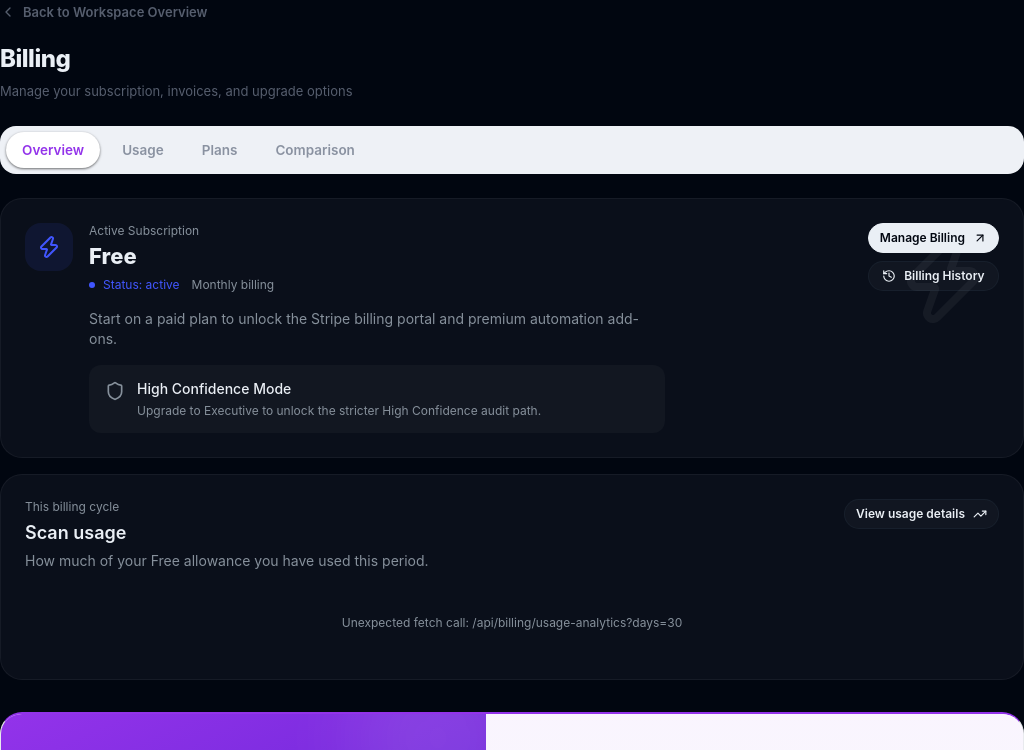
Test case: BillingPage › the Executive card (SIGV2-1211) › still offers Contact us to a visitor with no subscription at all
This screenshot has width=1024, height=750.
Expected: the text "Active Subscription" is shown, [89,222,199,238]
Click the tab "Plans". click: x=220, y=150
box: [186,132,253,168]
(page scrolled)
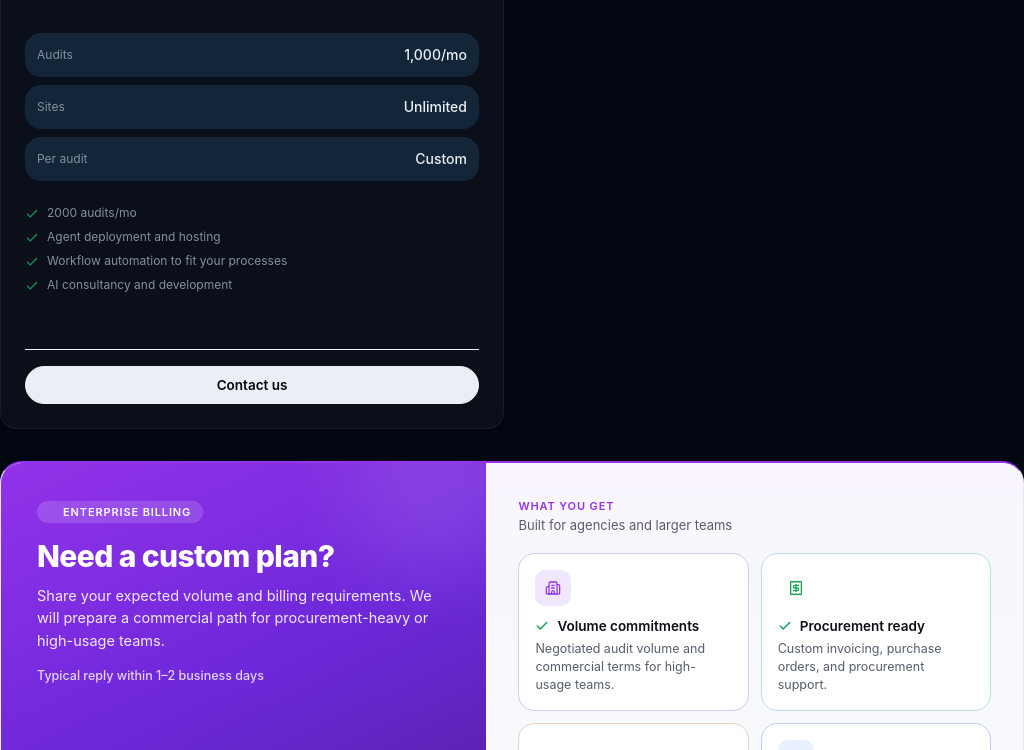
Expected: the link "Contact us" is shown, [25,366,479,404]
